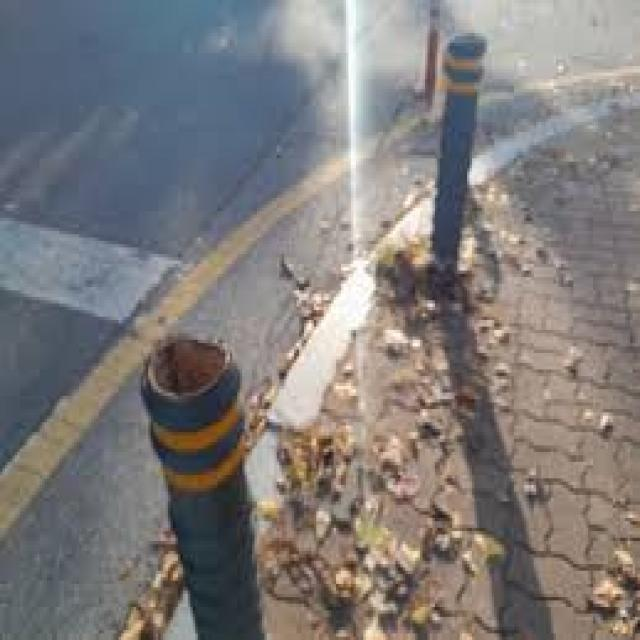bollard: (130, 324, 273, 640), (438, 26, 487, 290), (421, 0, 445, 107)
